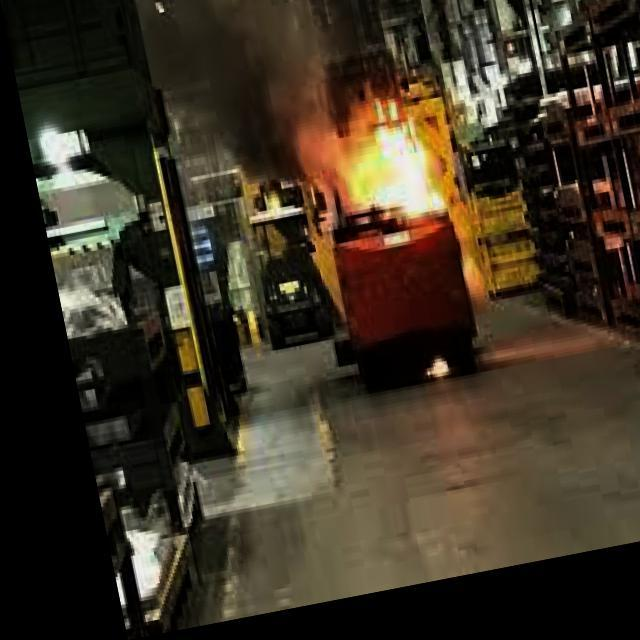Fire: (291, 119, 440, 254)
